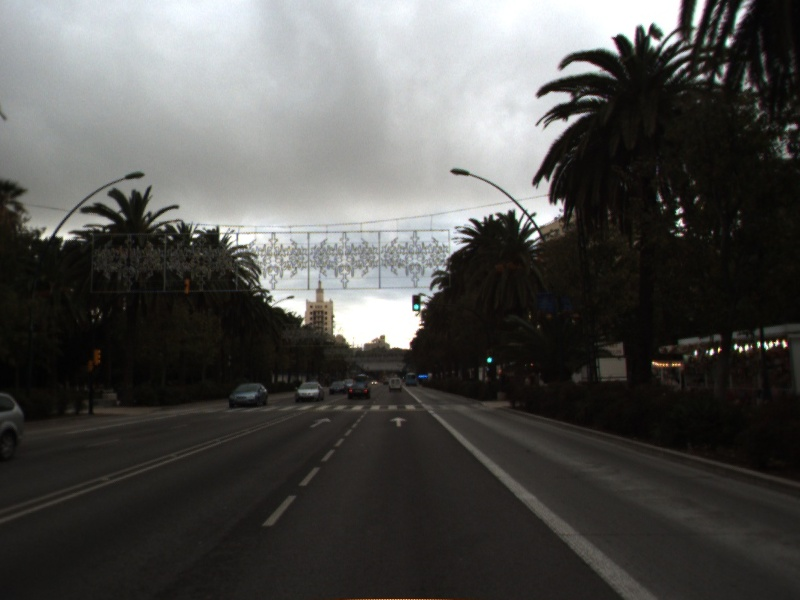STRAIGHT: (307, 416, 333, 430), (388, 415, 410, 429)
